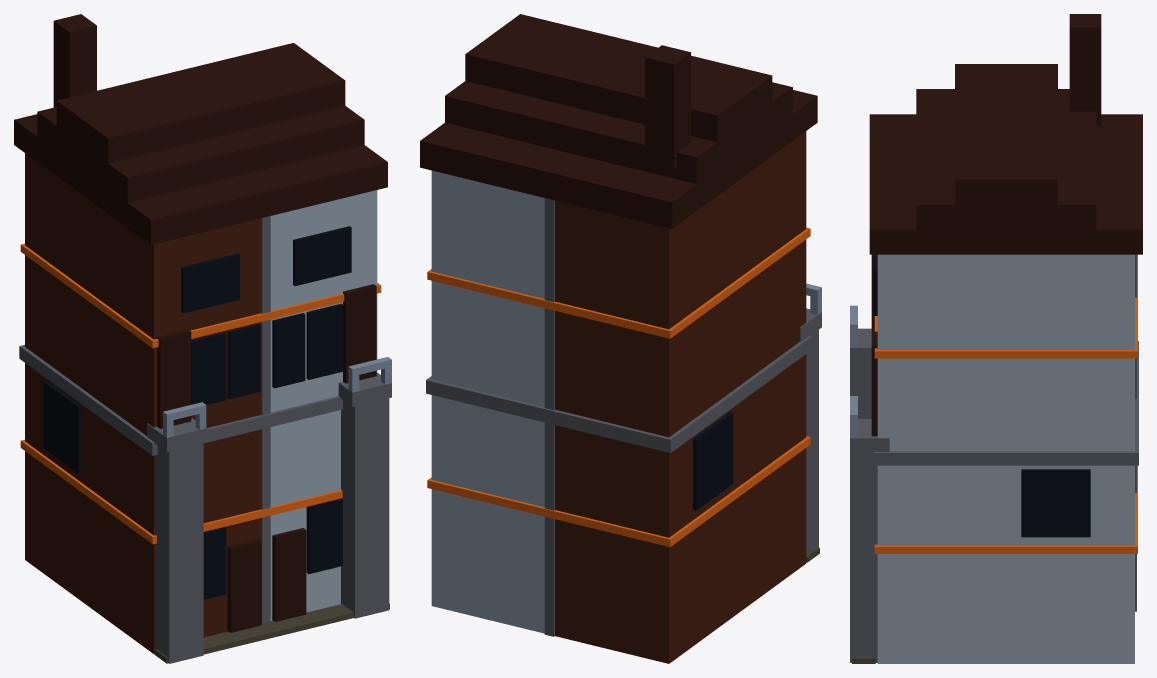
The model's file is walkup3.obj.
The picture shows the model from 3 angles, left to right: view 1: azimuth 30°, elevation 25°; view 2: azimuth 150°, elevation 25°; view 3: azimuth 270°, elevation 25°; orthographic projection. The views are drawn at different scales.
Visible parts, largest first — view 1: left-half, gable, upper-stairs, windows, right-half, doors, window-lights, floor-band, party-line, chimney, path, stair-rails; view 2: left-half, gable, right-half, window-lights, floor-band, chimney, party-line, upper-stairs, windows; view 3: right-half, gable, upper-stairs, window-lights, windows, floor-band, chimney, doors, stair-rails.
Boxes of the visible parts, x1=… form: left-half: x1=25, y1=153, x2=261, y2=653; gable: x1=14, y1=43, x2=387, y2=244; upper-stairs: x1=147, y1=372, x2=391, y2=663; windows: x1=43, y1=226, x2=351, y2=599; right-half: x1=270, y1=190, x2=377, y2=620; doors: x1=157, y1=284, x2=376, y2=632; window-lights: x1=20, y1=243, x2=381, y2=544; floor-band: x1=19, y1=345, x2=342, y2=455; party-line: x1=261, y1=216, x2=270, y2=623; chimney: x1=53, y1=14, x2=96, y2=107; path: x1=154, y1=603, x2=389, y2=663; stair-rails: x1=163, y1=357, x2=391, y2=437; left-half: x1=555, y1=131, x2=806, y2=663; gable: x1=420, y1=14, x2=817, y2=228; right-half: x1=431, y1=170, x2=544, y2=633; window-lights: x1=427, y1=227, x2=810, y2=546; floor-band: x1=426, y1=335, x2=811, y2=452; chimney: x1=645, y1=45, x2=690, y2=169; party-line: x1=544, y1=198, x2=554, y2=636; upper-stairs: x1=800, y1=308, x2=821, y2=555; windows: x1=693, y1=412, x2=733, y2=510; right-half: x1=877, y1=254, x2=1134, y2=663; gable: x1=869, y1=64, x2=1142, y2=254; upper-stairs: x1=850, y1=328, x2=889, y2=662; window-lights: x1=874, y1=254, x2=1137, y2=553; windows: x1=873, y1=254, x2=1090, y2=537; floor-band: x1=873, y1=341, x2=1138, y2=465; chimney: x1=1069, y1=14, x2=1101, y2=125; doors: x1=871, y1=254, x2=877, y2=436; stair-rails: x1=850, y1=305, x2=857, y2=438.
Bounding box in the file's own units: 2.76 × 6.1 × 2.96.
